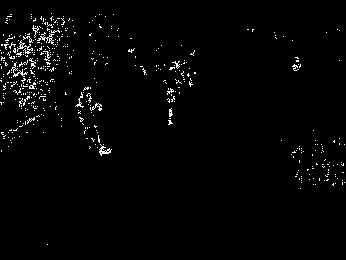person: (77, 89, 113, 157)
